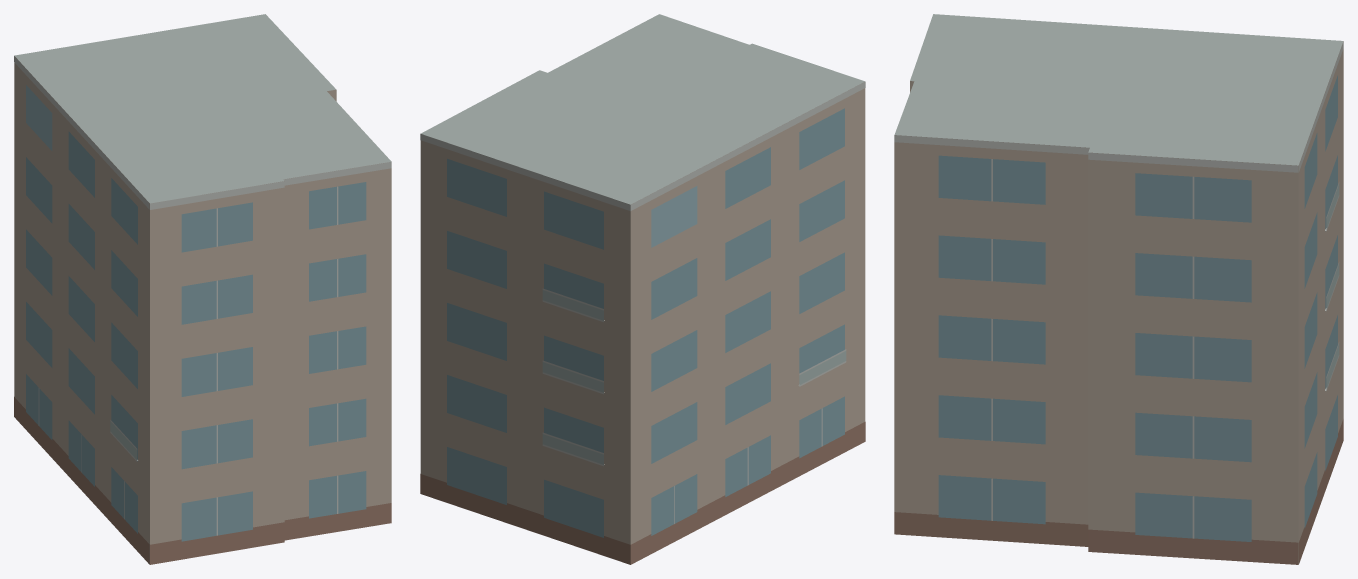
File: survey-upis-32745030.glb
3 views of the same model, side by side, from view 1: azimuth 30°, elevation 25°; view 2: azimuth 150°, elevation 25°; view 3: azimuth 270°, elevation 25° (orthographic). The views are drawn at different scales.
Visible parts, largest first — view 1: survey-upis-32745030.tmp; view 2: survey-upis-32745030.tmp; view 3: survey-upis-32745030.tmp.
Boxes of the visible parts, left/top/right/bottom form: survey-upis-32745030.tmp: left=14, top=14, right=391, bottom=564; survey-upis-32745030.tmp: left=420, top=14, right=865, bottom=564; survey-upis-32745030.tmp: left=894, top=14, right=1343, bottom=564.
Bounding box in the file's own units: 11 × 13.5 × 13.77.
